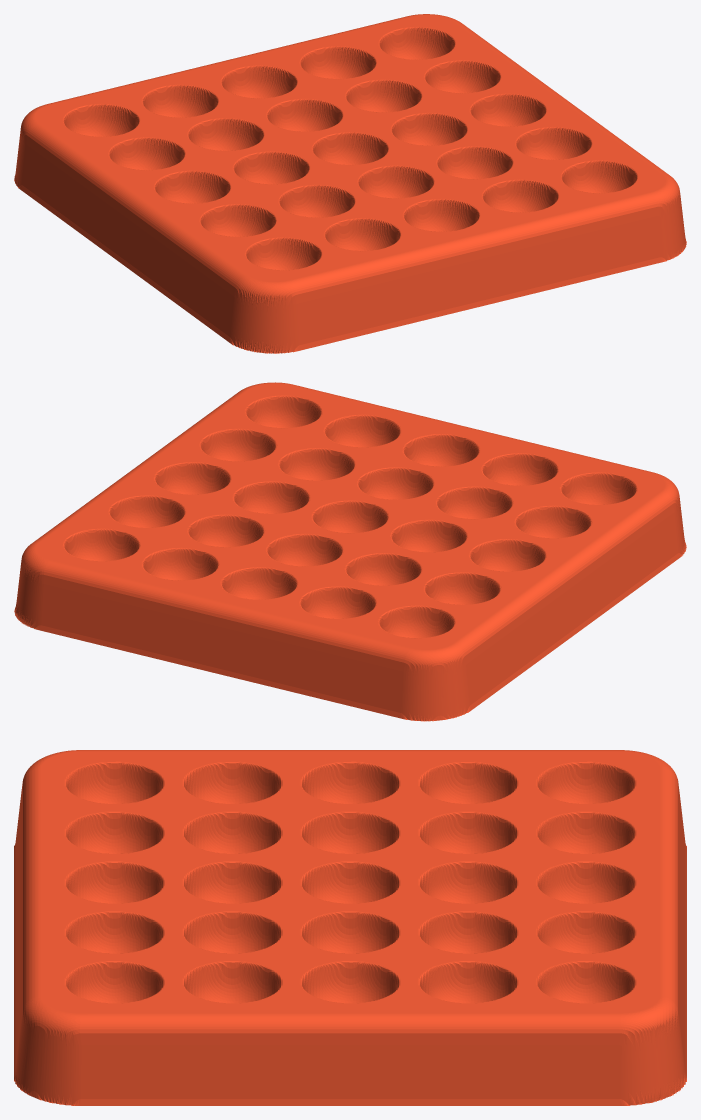
Rendered from mold.glb.
The picture shows the model from 3 angles, top to bottom: view 1: azimuth 30°, elevation 25°; view 2: azimuth 150°, elevation 25°; view 3: azimuth 270°, elevation 25°; orthographic projection. The views are drawn at different scales.
Parts seen in each view (by area): view 1: geometry_0; view 2: geometry_0; view 3: geometry_0.
Boxes of the visible parts, left/top/right/bottom form: geometry_0: left=14, top=14, right=686, bottom=353; geometry_0: left=14, top=382, right=686, bottom=721; geometry_0: left=14, top=750, right=686, bottom=1105.
Size of the model in its own units: 0.0902 by 0.012 by 0.0902.
